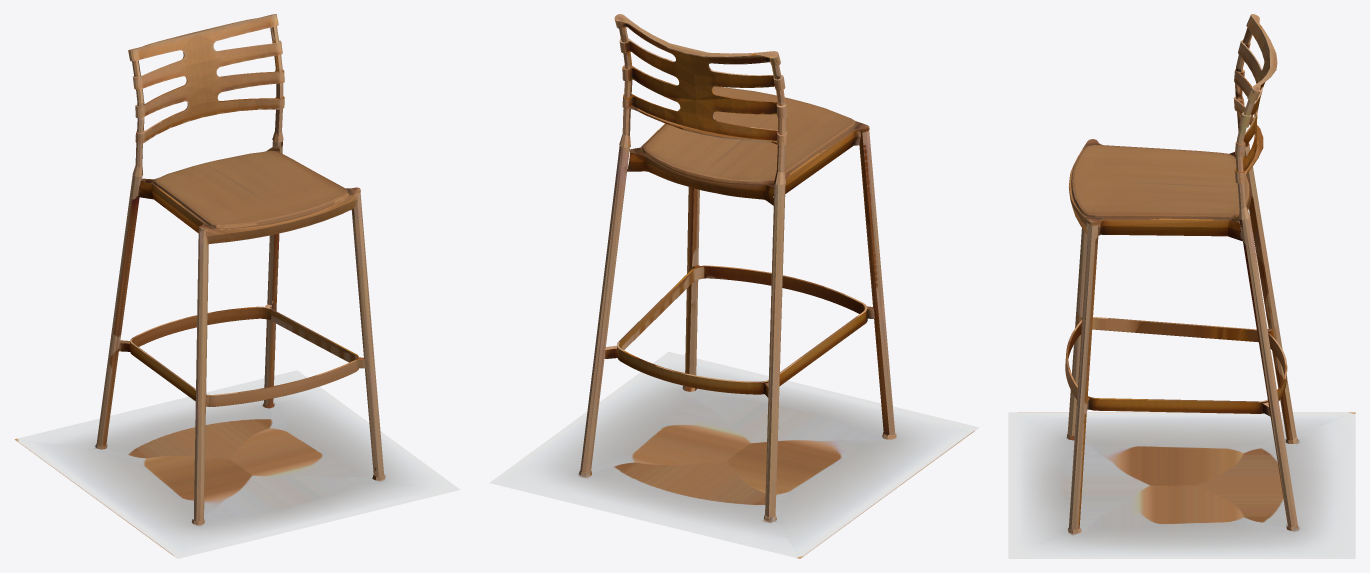
File: edited_mesh.glb
The picture shows the model from 3 angles, left to right: view 1: azimuth 30°, elevation 25°; view 2: azimuth 150°, elevation 25°; view 3: azimuth 270°, elevation 25°; orthographic projection. The views are drawn at different scales.
Visible parts, largest first — view 1: normalized_model.obj; view 2: normalized_model.obj; view 3: normalized_model.obj.
Part boxes in pixels (x1,y1,x2,y2): normalized_model.obj: (14,14,460,558); normalized_model.obj: (489,14,979,558); normalized_model.obj: (1008,14,1355,558).
Bounding box in the file's own units: 1.45 × 2 × 1.45.
Materials: 1 (1 with a texture image).
